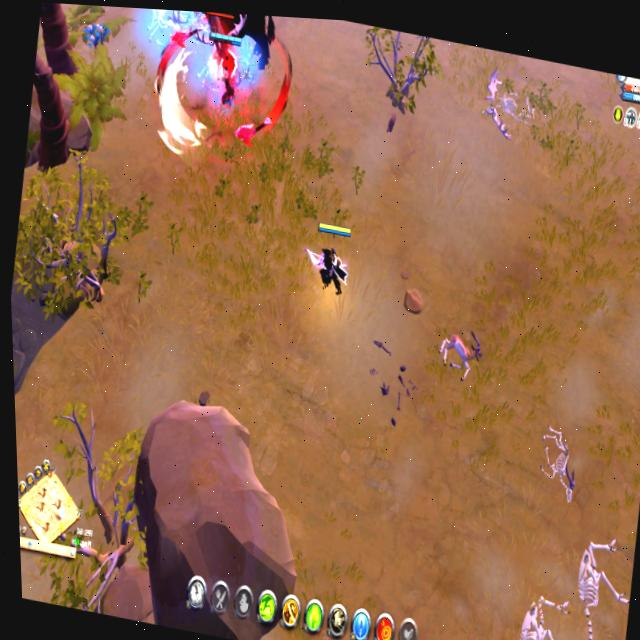hide: (83, 14, 110, 52)
mob: (433, 319, 487, 387)
ore: (198, 12, 242, 64)
red: (198, 29, 246, 126), (304, 218, 357, 300)
